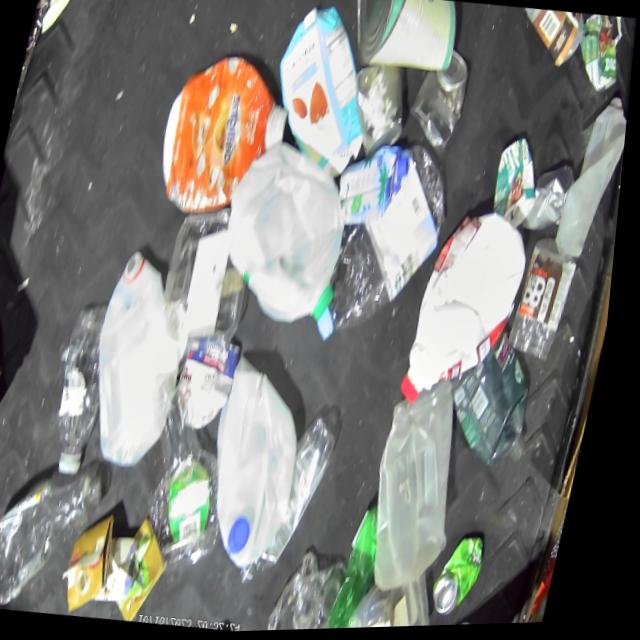can: (341, 0, 465, 81), (404, 48, 478, 161), (341, 65, 418, 166), (439, 532, 501, 625)
milk_jug: (212, 136, 370, 333), (197, 351, 329, 574), (81, 247, 211, 473), (404, 206, 542, 418), (362, 376, 489, 603), (556, 94, 632, 269)
non_white_jug: (259, 1, 392, 184)
plastic_bottle: (319, 139, 465, 353), (247, 410, 352, 595), (0, 462, 117, 617), (50, 301, 128, 478)
